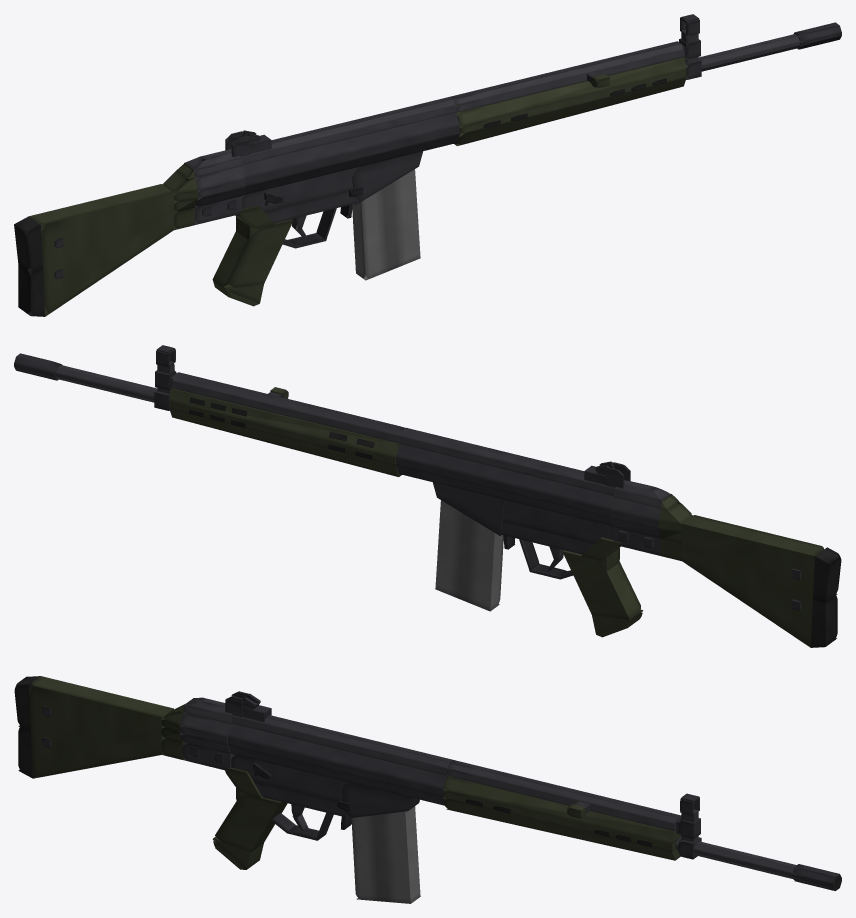
3 views of the same model, one above another, from view 1: azimuth 30°, elevation 25°; view 2: azimuth 150°, elevation 25°; view 3: azimuth 330°, elevation 25° (orthographic).
Visible parts, largest first — view 1: gunModel38, ammoModel0, gunModel5, gunModel11, gunModel19, gunModel10, gunModel0, gunModel13, gunModel8, gunModel4, gunModel6, gunModel3 (+10 smaller); view 2: gunModel38, ammoModel0, gunModel5, gunModel19, gunModel11, gunModel10, gunModel0, gunModel13, gunModel8, gunModel4, gunModel3, gunModel6 (+10 smaller); view 3: gunModel38, ammoModel0, gunModel11, gunModel5, gunModel10, gunModel19, gunModel13, gunModel0, gunModel8, gunModel4, gunModel6, gunModel3 (+13 smaller).
Boxes of the visible parts, x1=… form: gunModel38: x1=29, y1=184, x2=173, y2=316; ammoModel0: x1=352, y1=169, x2=420, y2=280; gunModel5: x1=242, y1=112, x2=459, y2=178; gunModel11: x1=456, y1=57, x2=686, y2=126; gunModel19: x1=213, y1=219, x2=293, y2=288; gunModel10: x1=450, y1=41, x2=683, y2=105; gunModel0: x1=237, y1=166, x2=359, y2=216; gunModel13: x1=454, y1=77, x2=686, y2=145; gunModel8: x1=202, y1=96, x2=455, y2=160; gunModel4: x1=243, y1=134, x2=459, y2=194; gunModel6: x1=245, y1=126, x2=459, y2=186; gunModel3: x1=351, y1=151, x2=422, y2=204; gunModel38: x1=682, y1=515, x2=824, y2=647; ammoModel0: x1=435, y1=500, x2=503, y2=611; gunModel5: x1=396, y1=443, x2=613, y2=509; gunModel19: x1=562, y1=550, x2=642, y2=619; gunModel11: x1=169, y1=388, x2=399, y2=457; gunModel10: x1=172, y1=372, x2=405, y2=436; gunModel0: x1=502, y1=500, x2=613, y2=543; gunModel13: x1=169, y1=408, x2=401, y2=476; gunModel8: x1=400, y1=427, x2=615, y2=488; gunModel4: x1=396, y1=465, x2=612, y2=525; gunModel3: x1=433, y1=482, x2=504, y2=535; gunModel6: x1=396, y1=457, x2=610, y2=517; gunModel38: x1=29, y1=676, x2=173, y2=778; ammoModel0: x1=351, y1=806, x2=420, y2=903; gunModel11: x1=443, y1=776, x2=681, y2=843; gunModel5: x1=228, y1=723, x2=447, y2=789; gunModel10: x1=447, y1=760, x2=681, y2=823; gunModel19: x1=213, y1=796, x2=287, y2=852; gunModel13: x1=443, y1=798, x2=680, y2=860; gunModel0: x1=231, y1=754, x2=349, y2=802; gunModel8: x1=232, y1=715, x2=452, y2=768; gunModel4: x1=228, y1=745, x2=444, y2=805; gunModel6: x1=228, y1=737, x2=443, y2=796; gunModel3: x1=341, y1=782, x2=419, y2=818.
Bounding box in the file's own units: 38.75 × 8.1 × 1.95.
